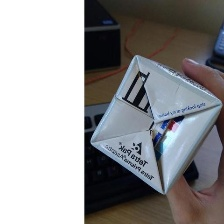carton: (90, 53, 223, 196)
